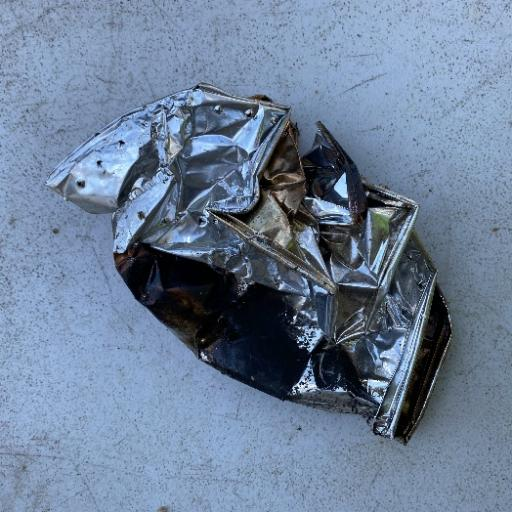Metal: (44, 81, 454, 445)
